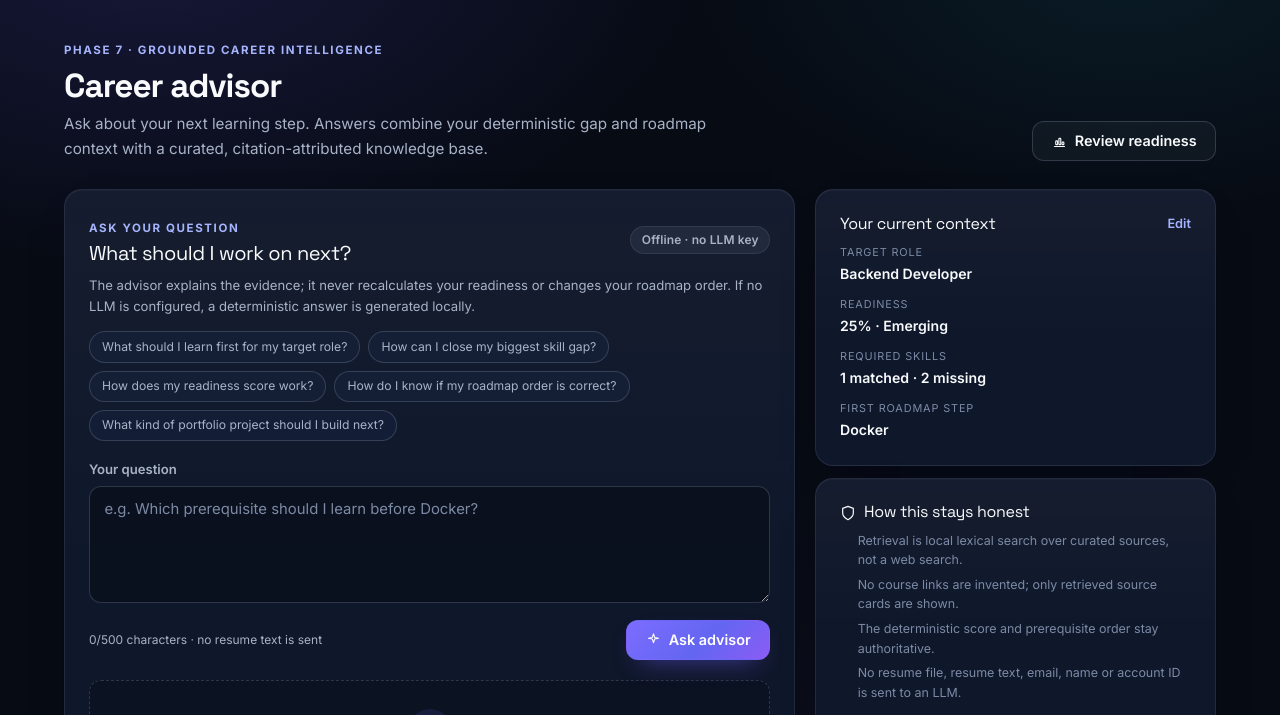
AdvisorPage › shows a retryable error without clearing the question
Check: the text "Backend Developer" is shown, box x1=840 y1=265 x2=972 y2=282
In the text box labelled "Your question": (430, 544) x1=89 y1=486 x2=770 y2=603, type "What should I learn?"
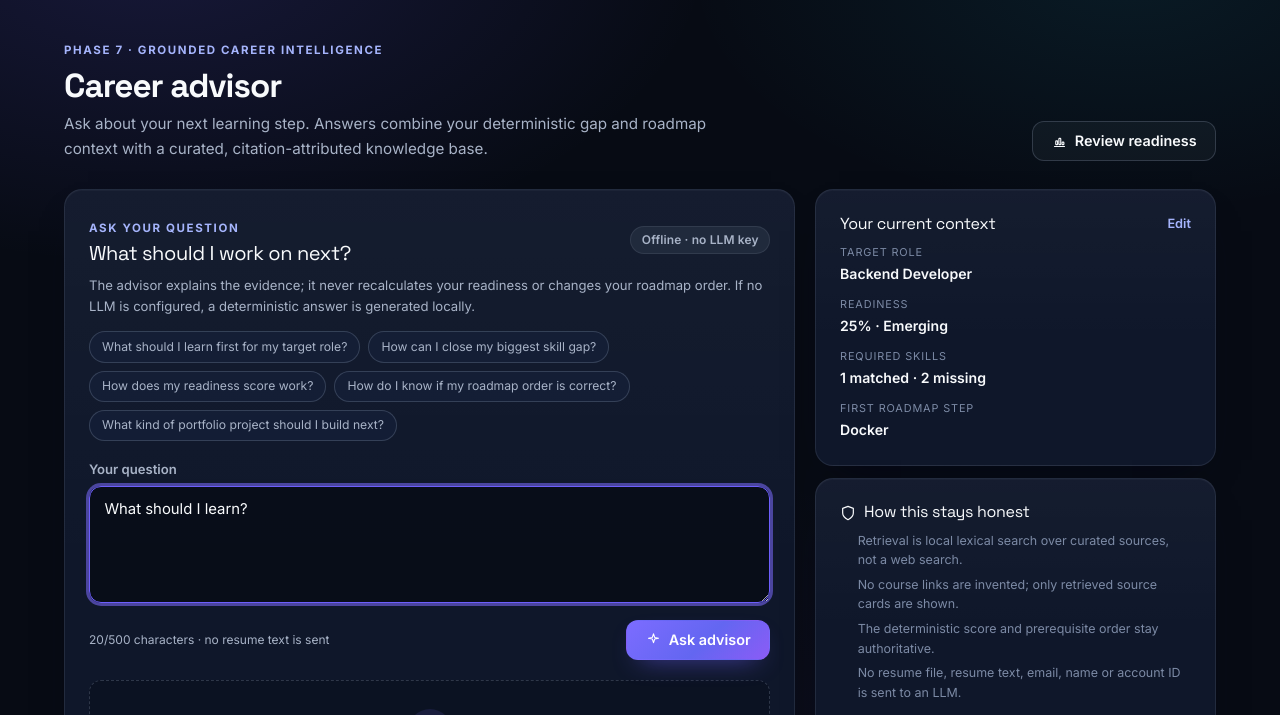
Click the button "Ask advisor": (698, 640) x1=626 y1=620 x2=770 y2=660
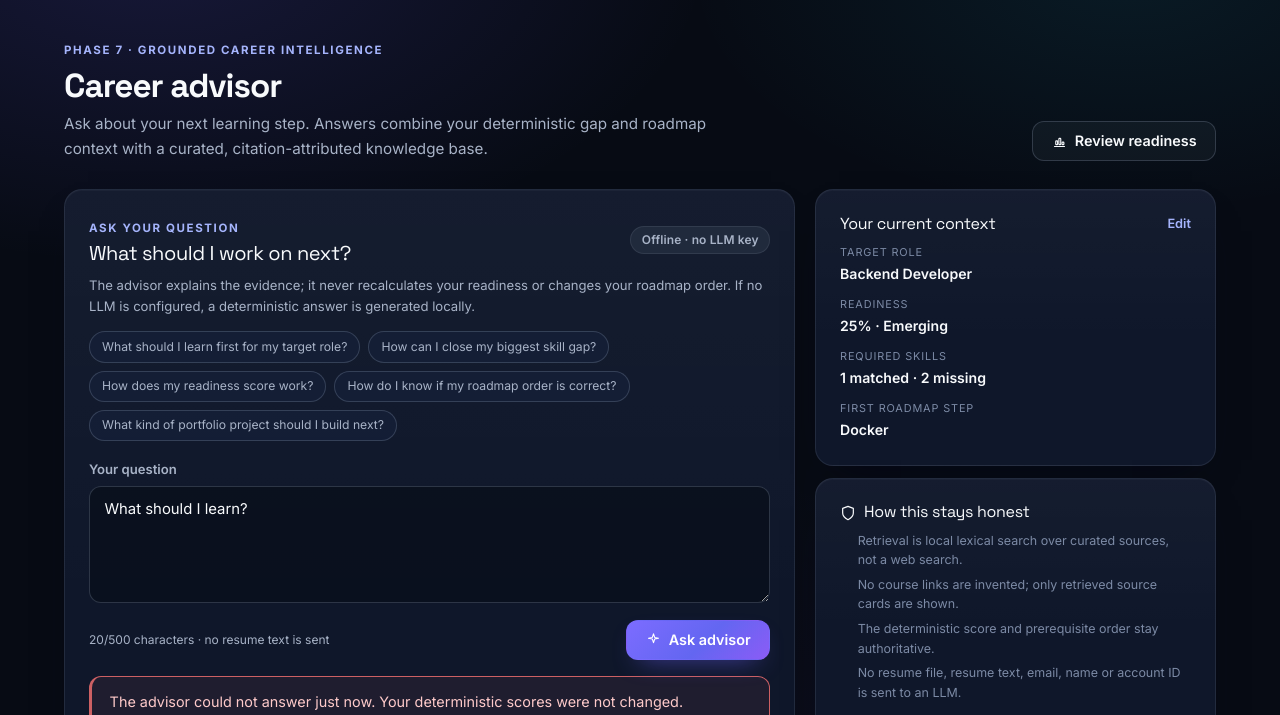
Check: the message shows "could not answer just now", box x1=110 y1=693 x2=683 y2=710
